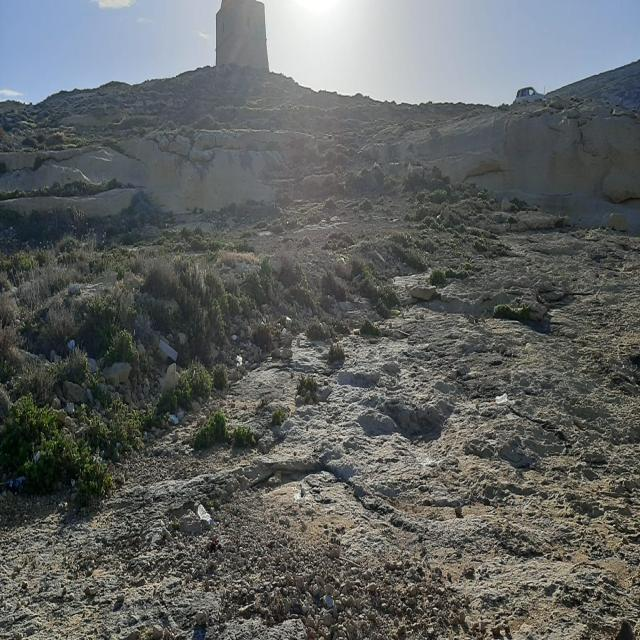Bottle: (197, 503, 213, 525), (493, 393, 508, 406)
Other litter: (8, 474, 25, 490)
Other plastic: (159, 337, 178, 362), (167, 411, 184, 425), (236, 355, 244, 370), (68, 339, 76, 350), (232, 335, 238, 340)
